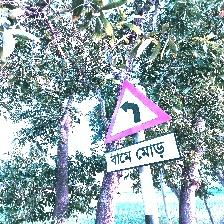Left-Turn: (103, 79, 180, 179)
